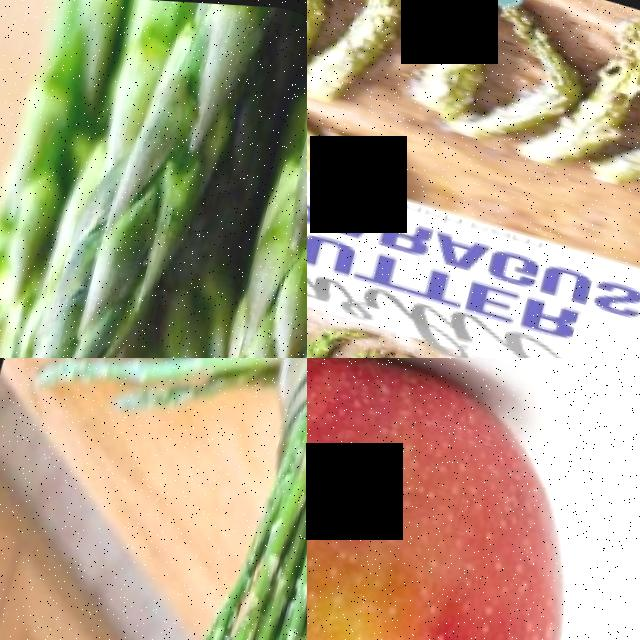apple: (307, 358, 636, 640)
asparagus: (26, 0, 259, 358), (145, 358, 307, 640), (202, 6, 307, 358), (477, 0, 577, 147), (571, 0, 640, 159), (312, 0, 417, 103), (407, 0, 494, 109)
